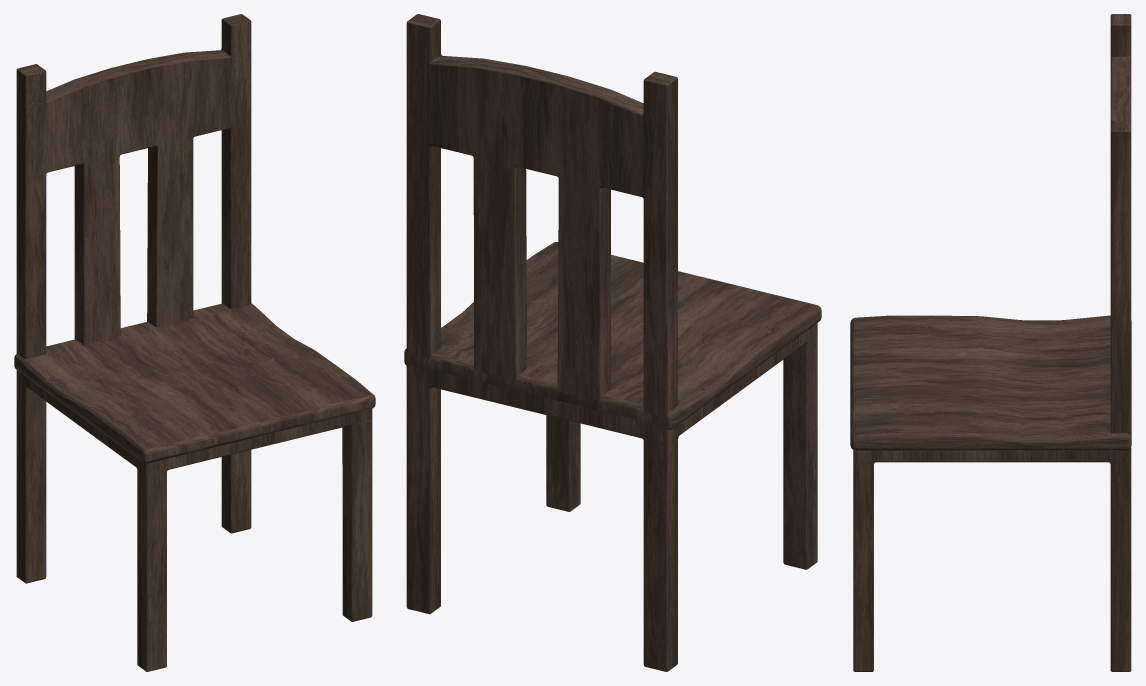
Rendered from cadeira.fbx.
The picture shows the model from 3 angles, left to right: view 1: azimuth 30°, elevation 25°; view 2: azimuth 150°, elevation 25°; view 3: azimuth 270°, elevation 25°; orthographic projection. The views are drawn at different scales.
Parts seen in each view (by area): view 1: pCube1, pCube2; view 2: pCube1, pCube2; view 3: pCube2, pCube1.
Boxes of the visible parts, <box> form: pCube1: <box>16,14,372,671</box>; pCube2: <box>14,303,375,463</box>; pCube1: <box>406,14,817,671</box>; pCube2: <box>404,242,821,430</box>; pCube2: <box>850,315,1131,450</box>; pCube1: <box>853,14,1131,671</box>.
Size of the model in its own units: 1.03 by 2.15 by 1.01.
